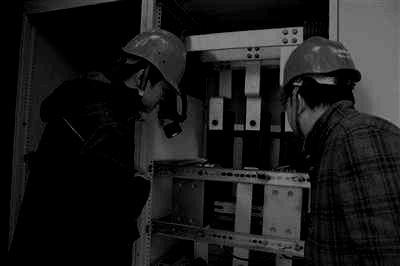helmet: (281, 36, 361, 137), (117, 27, 187, 115)
